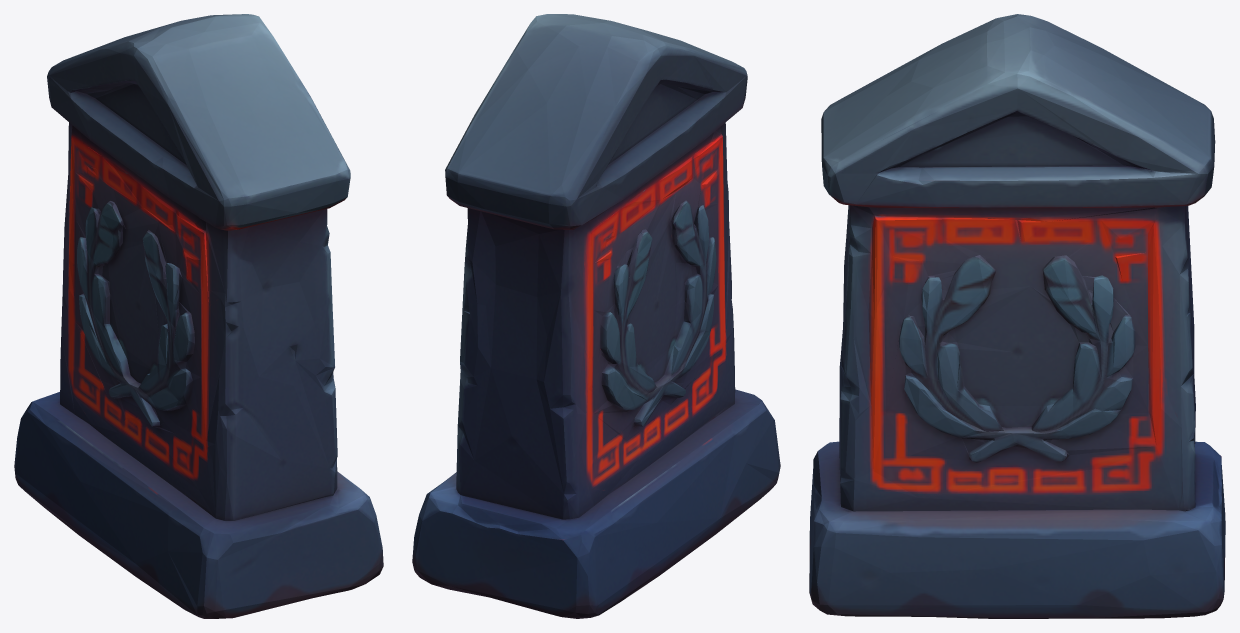
File: lava_tombstone.glb
The picture shows the model from 3 angles, left to right: view 1: azimuth 30°, elevation 25°; view 2: azimuth 150°, elevation 25°; view 3: azimuth 270°, elevation 25°; orthographic projection. The views are drawn at different scales.
Visible parts, largest first — view 1: world; view 2: world; view 3: world.
Boxes of the visible parts, bbox=[...] form: world: bbox=[14, 14, 383, 618]; world: bbox=[412, 14, 780, 618]; world: bbox=[809, 14, 1225, 618].
Bounding box in the file's own units: 0.3849 × 0.9977 × 0.703.
Materials: 1 (1 with a texture image).
